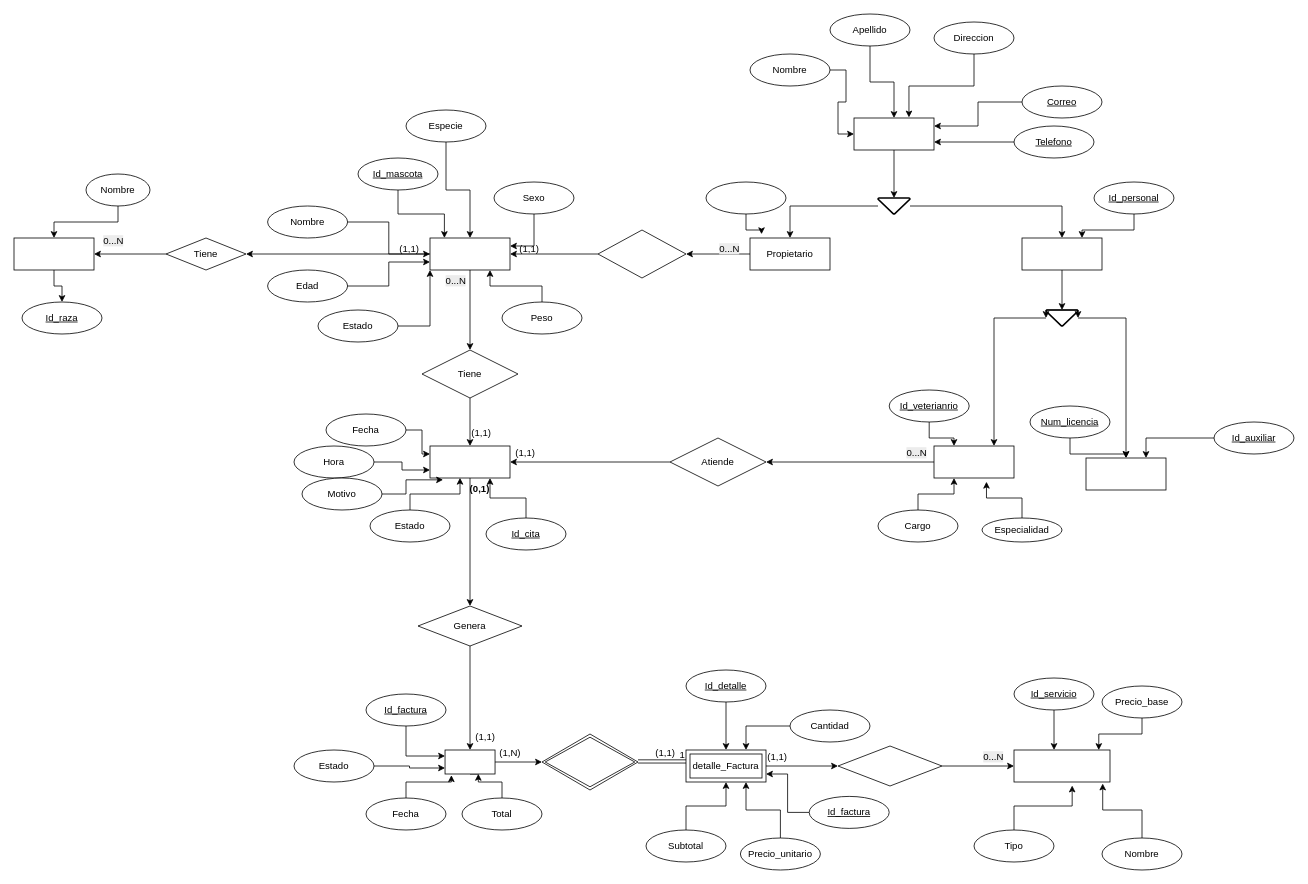
Some shapes in this 1308 by 884 pixel diagram are drawn without their labels. Each missing label, with the centre of its shape:
"Aplica" goes at point 889,765.
"Auxiliar" goes at point 1125,473.
"Cita" goes at point 469,461.
"Contiene" goes at point 589,761.
"Factura" goes at point 469,761.
"Id_Propietario" goes at point 745,197.
"Mascota" goes at point 469,253.
"Persona" goes at point 893,133.
"Personal" goes at point 1061,253.
"Posee" goes at point 641,253.
"Raza" goes at point 53,253.
"Servicio" goes at point 1061,765.
"Veterinario" goes at point 973,461.
